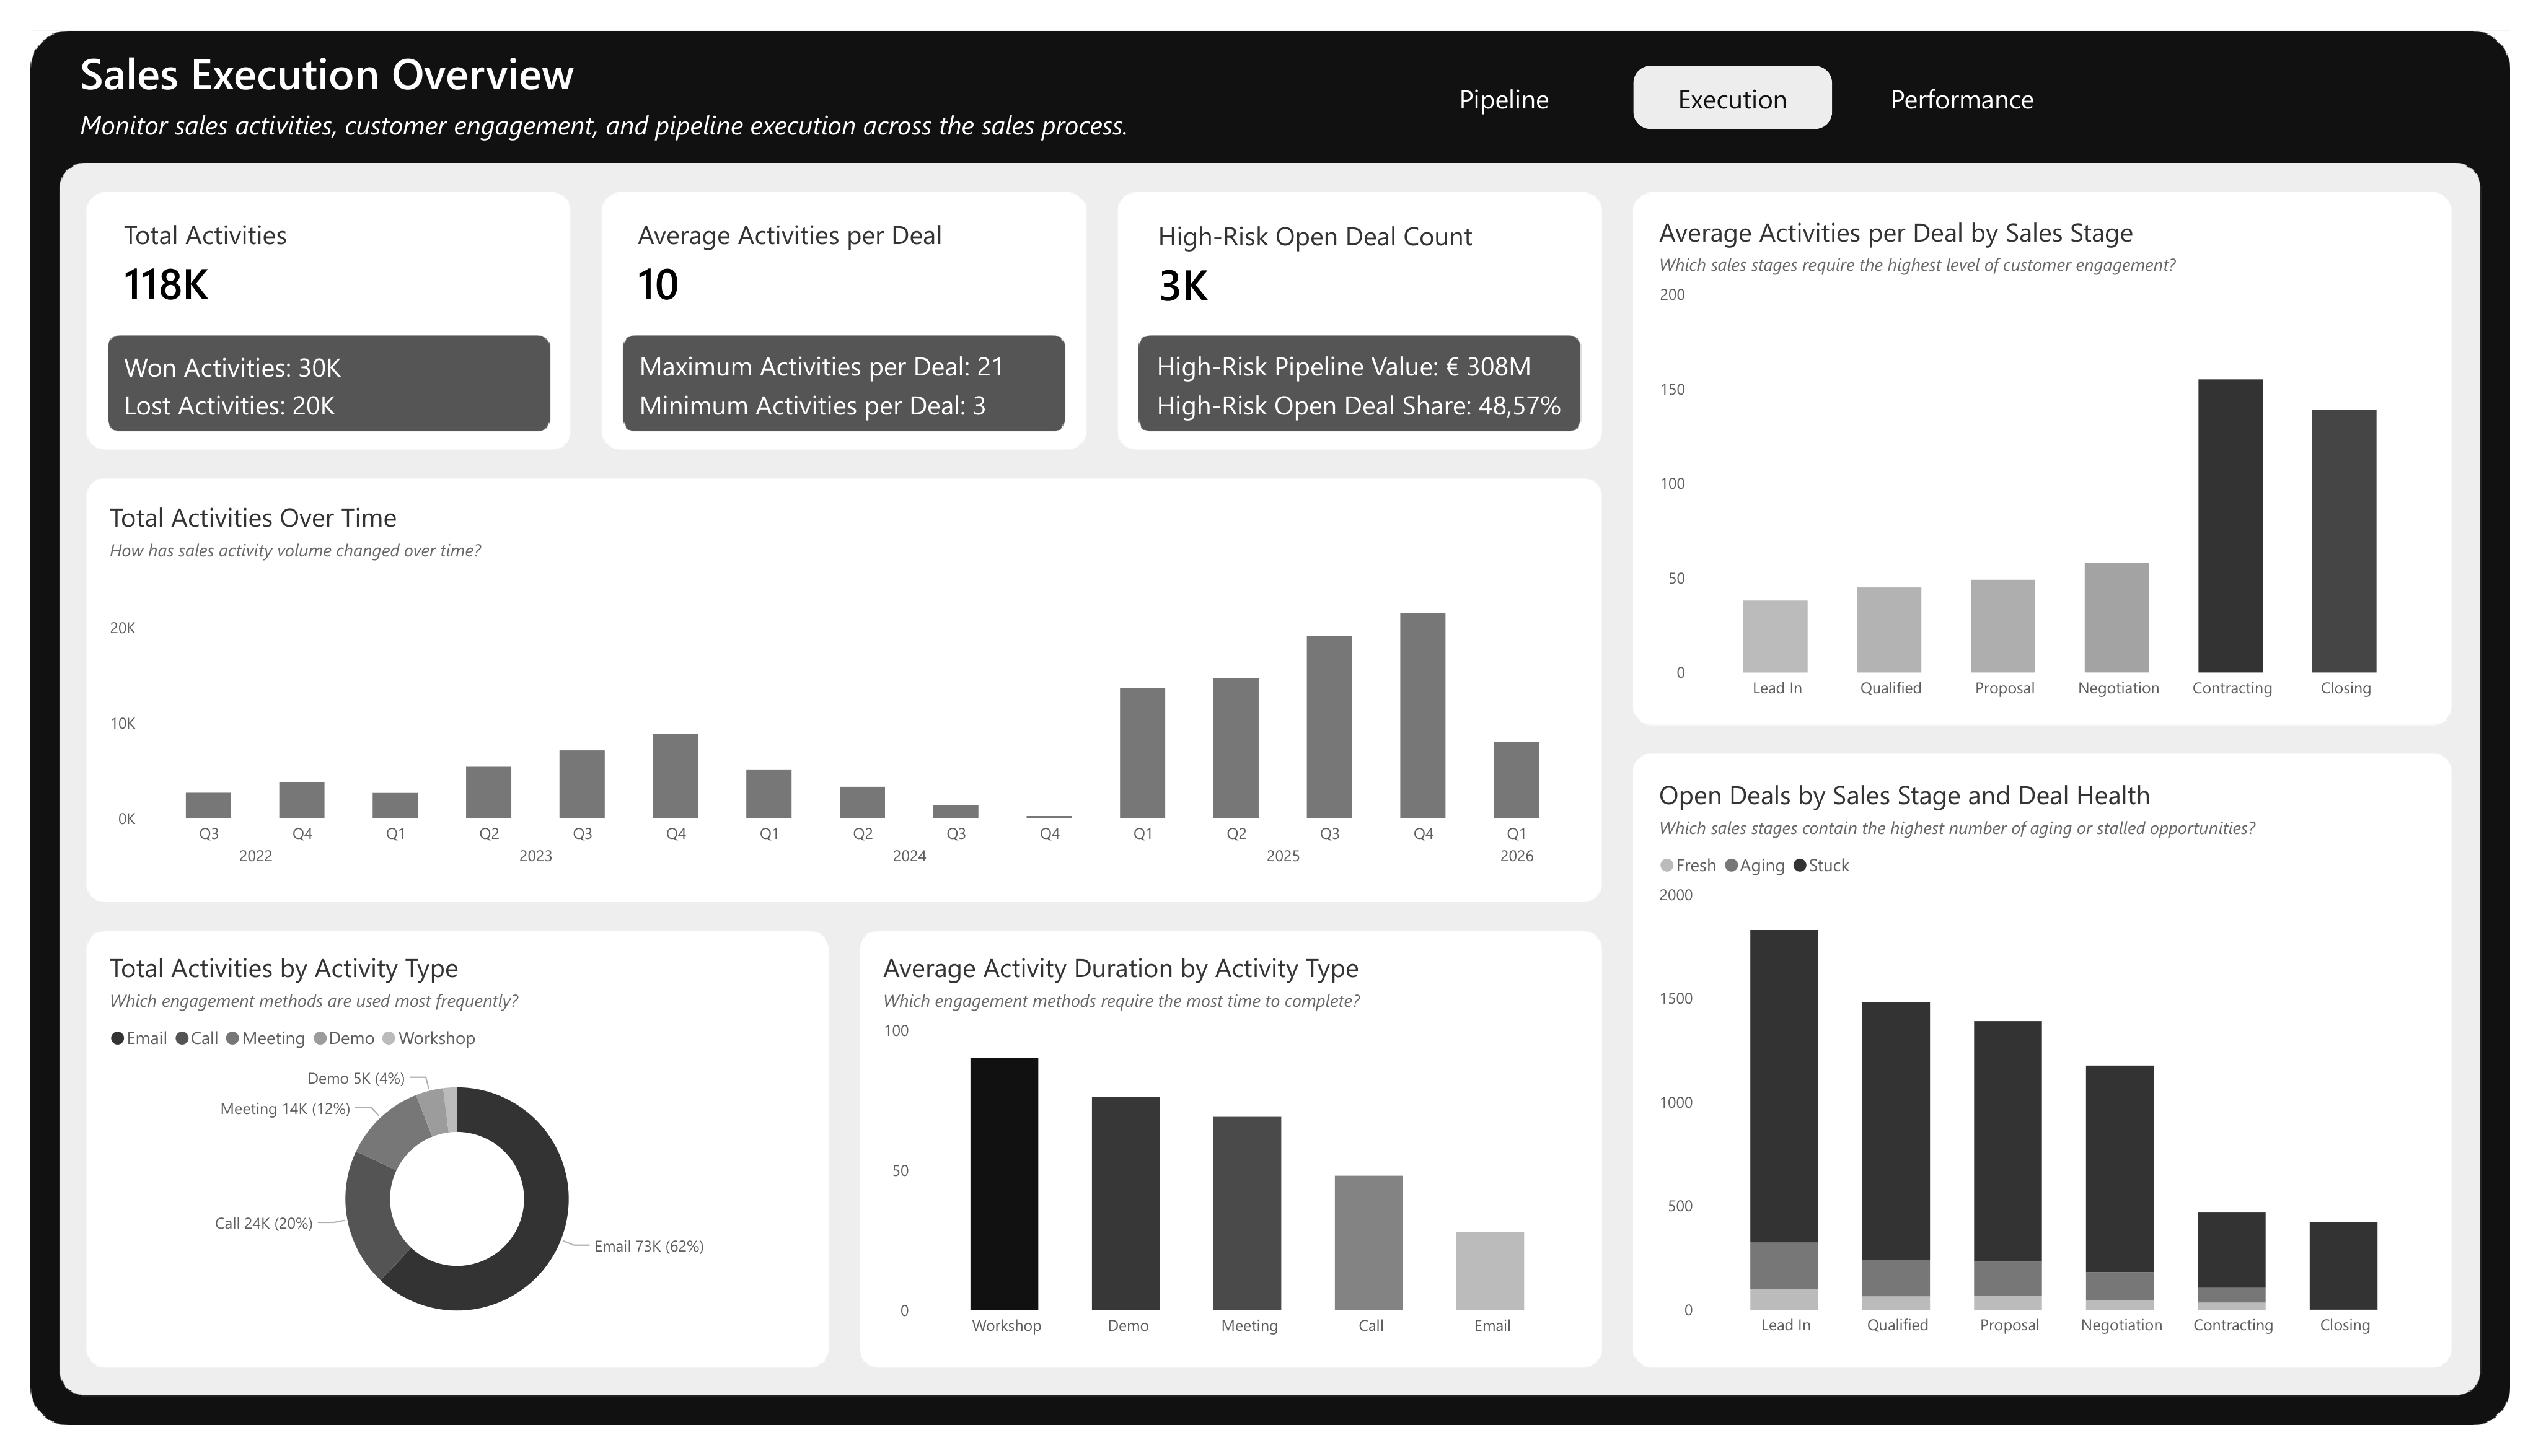

Layout of this report page (visuals, bound fields, positions):
{"tool":"powerbi","page":{"name":"Execution","canvas":[1920,1080],"ordinal":1},"visuals":[{"type":"cardVisual","fields":{"Data":[".Measures.Average Activities per Deal"]},"box":[441,115.1,376.6,181.5],"z":0},{"type":"cardVisual","fields":{"Data":[".Measures.Lost Activities Summary"]},"box":[43.4,244.3,376.4,97.7],"z":1000},{"type":"cardVisual","fields":{"Data":[".Measures.Total Activities"]},"box":[42.9,115.1,376.6,181.5],"z":2000},{"type":"cardVisual","fields":{"Data":[".Measures.Min Activities Summary"]},"box":[441.6,244.3,376.4,97.7],"z":3000},{"type":"clusteredColumnChart","title":"Average Activities per Deal by Sales Stage","fields":{"Category":["FactDeals.StageName"],"Y":[".Measures.Average Activities per Deal"]},"box":[1255.9,141.2,604.4,385.5],"z":4000},{"type":"columnChart","title":"Average Activity Duration by Activity Type","fields":{"Category":["FactActivities.ActivityType"],"Y":[".Measures.Average Activity Duration"]},"box":[655.1,711.2,548.3,309.5],"z":5000},{"type":"donutChart","title":"Total Activities by Activity Type","fields":{"Category":["FactActivities.ActivityType"],"Y":[".Measures.Total Activities"]},"box":[56.1,711.2,548.3,309.5],"z":6000},{"type":"lineClusteredColumnComboChart","title":"Total Activities Over Time","fields":{"Category":["DimDate.Year","DimDate.Quarter","DimDate.MonthName"],"Y":[".Measures.Total Activities"]},"box":[56.1,361.9,1147.3,298.6],"z":7000},{"type":"textbox","title":"Sales Execution Overview","box":[32.6,9,828.8,77.8],"z":8000},{"type":"cardVisual","fields":{"Data":[".Measures.Won Activities Summary"]},"box":[43.4,215.3,376.4,97.7],"z":9000},{"type":"cardVisual","fields":{"Data":[".Measures.Max Activities Summary"]},"box":[442.3,214.4,376.7,96.6],"z":10000},{"type":"columnChart","title":"Open Deals by Sales Stage and Deal Health","fields":{"Category":["FactDeals.StageName"],"Series":["FactDeals.Deal Health"],"Y":[".Measures.Open Deal Count"]},"box":[1255.9,577.3,604.4,443.4],"z":11000},{"type":"cardVisual","fields":{"Data":[".Measures.High-Risk Open Deal % Summary"]},"box":[843.3,244.3,378.2,97.7],"z":12000},{"type":"cardVisual","fields":{"Data":[".Measures.High-Risk Open Pipeline Value Summary"]},"box":[843.3,213.5,376.4,97.7],"z":13000},{"type":"cardVisual","fields":{"Data":[".Measures.High-Risk Open Deal Count"]},"box":[844.1,115.9,376.7,181.6],"z":14000}]}

Visuals, with their boxes on the page's 1920x1080 design canvas (x1, y1, x2, y2). These are canvas units, not pixel positions in the 2541x1456 screenshot, which may show the page scaled, cropped or inside an application window:
cardVisual - .Measures.Average Activities per Deal: locate(441, 115, 818, 297)
cardVisual - .Measures.Lost Activities Summary: locate(43, 244, 420, 342)
cardVisual - .Measures.Total Activities: locate(43, 115, 420, 297)
cardVisual - .Measures.Min Activities Summary: locate(442, 244, 818, 342)
"Average Activities per Deal by Sales Stage" clusteredColumnChart: locate(1256, 141, 1860, 527)
"Average Activity Duration by Activity Type" columnChart: locate(655, 711, 1203, 1021)
"Total Activities by Activity Type" donutChart: locate(56, 711, 604, 1021)
"Total Activities Over Time" lineClusteredColumnComboChart: locate(56, 362, 1203, 660)
"Sales Execution Overview" textbox: locate(33, 9, 861, 87)
cardVisual - .Measures.Won Activities Summary: locate(43, 215, 420, 313)
cardVisual - .Measures.Max Activities Summary: locate(442, 214, 819, 311)
"Open Deals by Sales Stage and Deal Health" columnChart: locate(1256, 577, 1860, 1021)
cardVisual - .Measures.High-Risk Open Deal % Summary: locate(843, 244, 1222, 342)
cardVisual - .Measures.High-Risk Open Pipeline Value Summary: locate(843, 214, 1220, 311)
cardVisual - .Measures.High-Risk Open Deal Count: locate(844, 116, 1221, 298)
